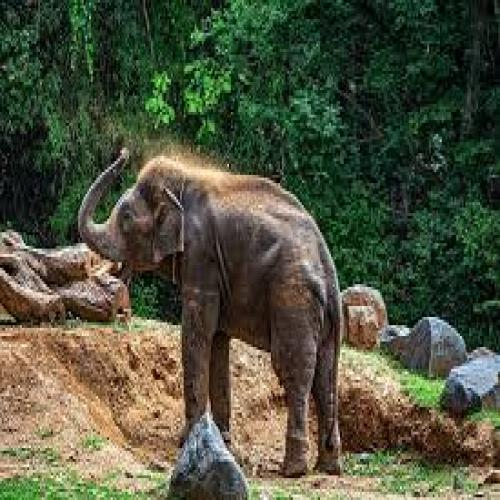asian_elephant-endangered: (80, 146, 345, 472)
